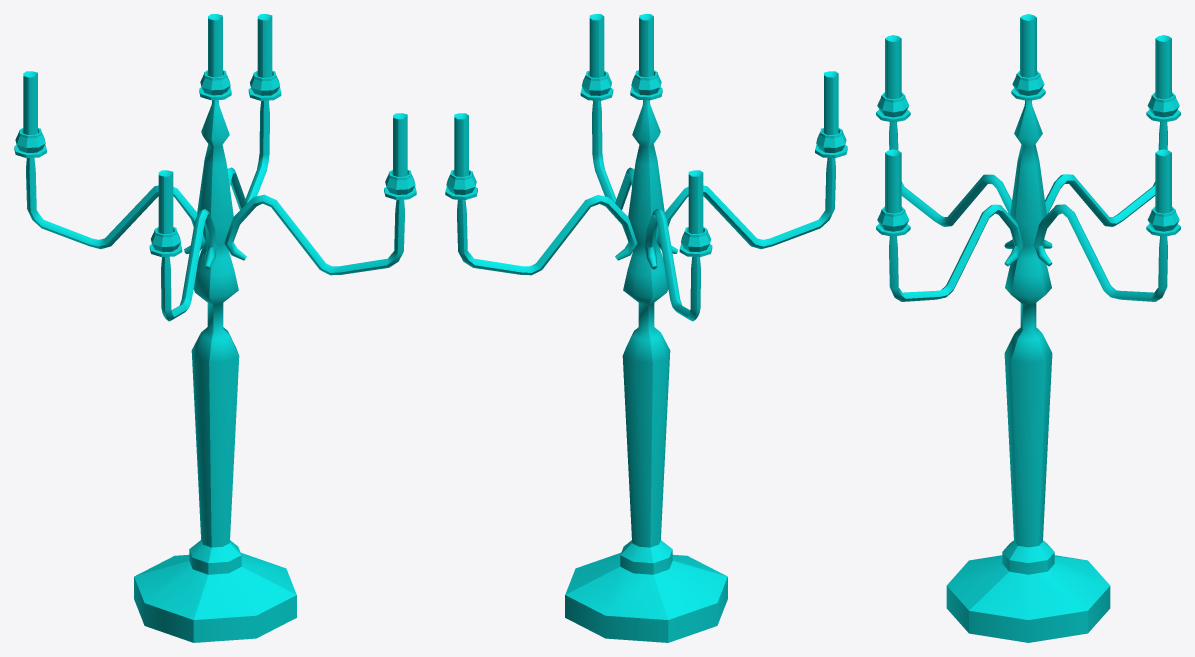
The model's file is CandelabroTortuoso_PROP.fbx.
The picture shows the model from 3 angles, left to right: view 1: azimuth 30°, elevation 25°; view 2: azimuth 150°, elevation 25°; view 3: azimuth 270°, elevation 25°; orthographic projection.
Parts seen in each view (by area): view 1: Candelabro_MESH, Velas_MESH; view 2: Candelabro_MESH, Velas_MESH; view 3: Candelabro_MESH, Velas_MESH.
Part boxes in pixels (x1=…): Candelabro_MESH: x1=14, y1=70, x2=416, y2=642; Velas_MESH: x1=23, y1=14, x2=407, y2=234; Candelabro_MESH: x1=445, y1=70, x2=847, y2=642; Velas_MESH: x1=454, y1=14, x2=838, y2=234; Candelabro_MESH: x1=876, y1=71, x2=1180, y2=642; Velas_MESH: x1=885, y1=14, x2=1171, y2=213.
Bounding box in the file's own units: 8.84 × 18.89 × 8.84.
